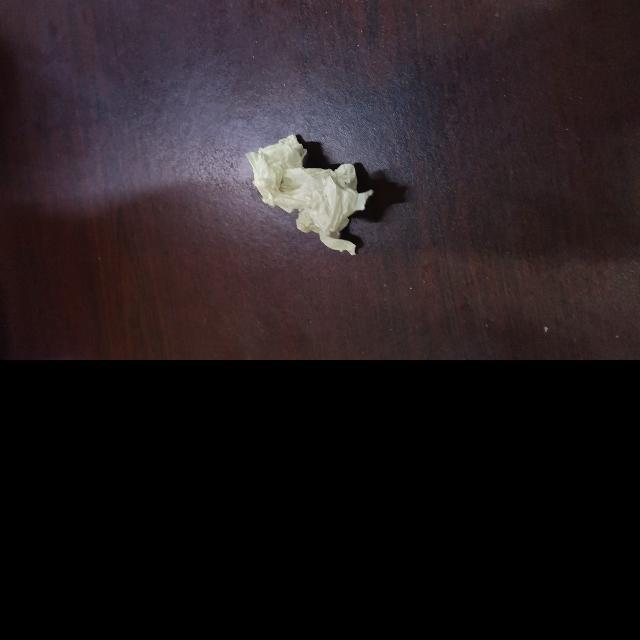kitchen paper: (240, 133, 386, 272)
